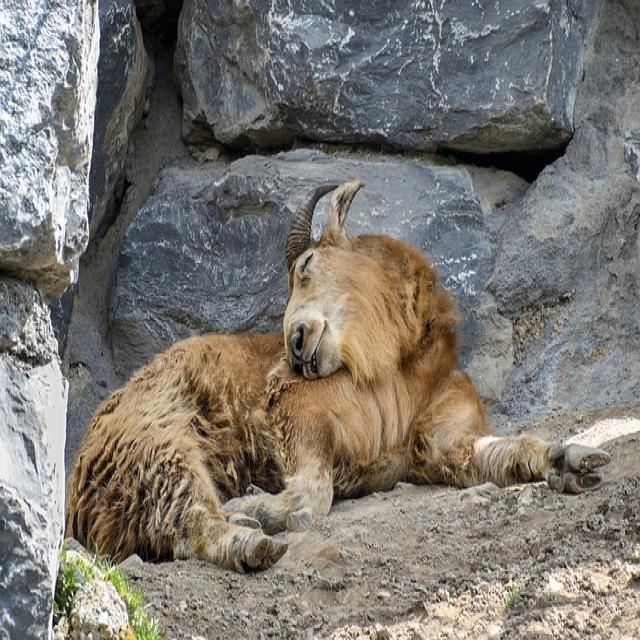goat: (65, 182, 610, 577)
